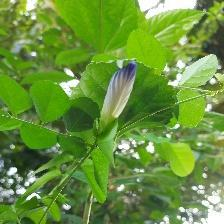shankupushpam: (100, 60, 139, 127)
